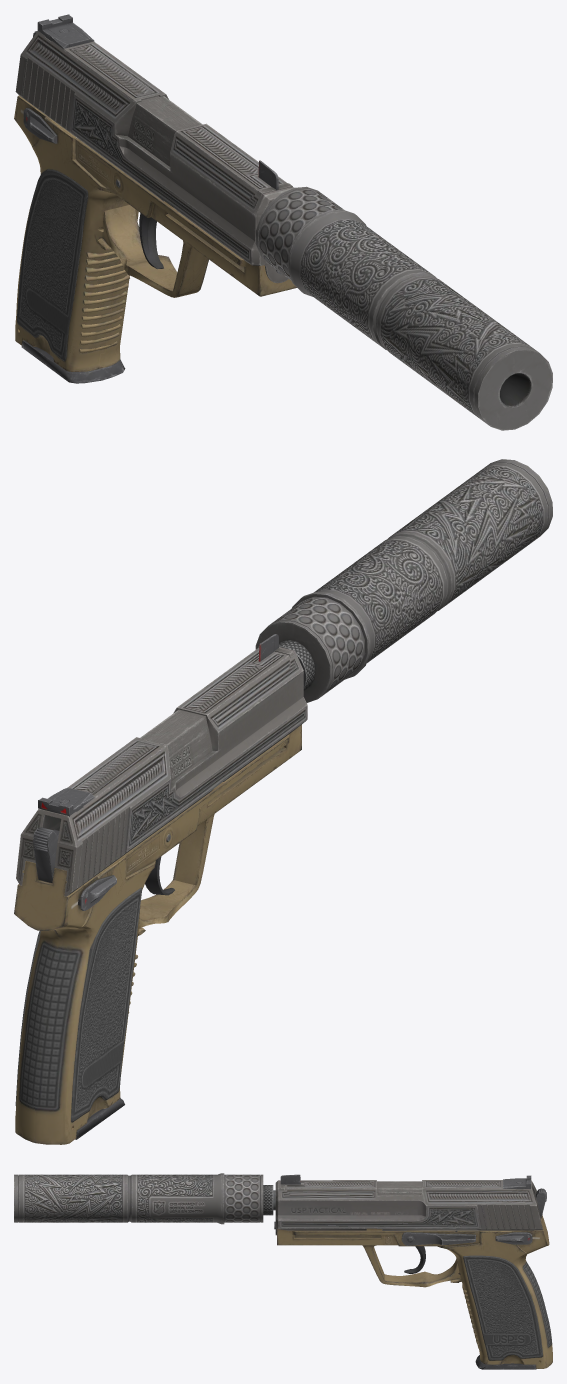
Rendered from usp-lead-conduit.glb.
3 renders of one model, top to bottom at view 1: azimuth 30°, elevation 25°; view 2: azimuth 150°, elevation 25°; view 3: azimuth 270°, elevation 25°, orthographic. The views are drawn at different scales.
Visible parts, largest first — view 1: weapons\models\usp_silencer\weapon_pist_usp_silencer.vmdl_c.; view 2: weapons\models\usp_silencer\weapon_pist_usp_silencer.vmdl_c.; view 3: weapons\models\usp_silencer\weapon_pist_usp_silencer.vmdl_c..
Boxes of the visible parts, bbox=[...] form: weapons\models\usp_silencer\weapon_pist_usp_silencer.vmdl_c.: bbox=[14, 14, 552, 430]; weapons\models\usp_silencer\weapon_pist_usp_silencer.vmdl_c.: bbox=[14, 459, 552, 1144]; weapons\models\usp_silencer\weapon_pist_usp_silencer.vmdl_c.: bbox=[14, 1173, 552, 1369].
Bounding box in the file's own units: 0.0434 × 0.1737 × 0.4528.
Materials: 1 (1 with a texture image).
